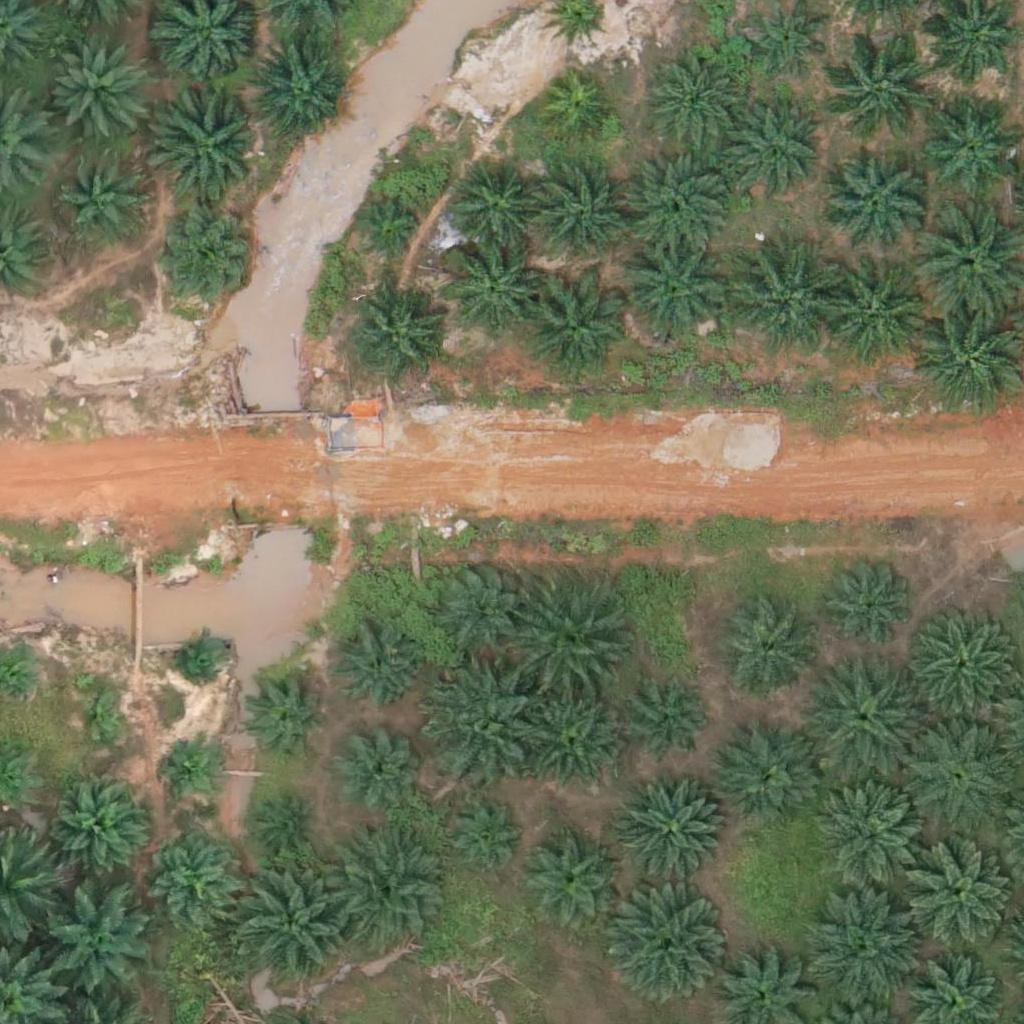Kelapa_Sawit: (607, 890, 720, 1004), (333, 839, 446, 953), (901, 840, 1014, 953), (901, 611, 1014, 724), (815, 781, 928, 894), (238, 862, 351, 975), (37, 886, 150, 999), (620, 146, 733, 259), (617, 234, 730, 347), (519, 273, 632, 386), (900, 717, 1012, 831), (827, 26, 939, 140), (725, 243, 837, 357), (813, 660, 925, 773), (810, 896, 922, 1009), (618, 776, 730, 889), (515, 589, 627, 702), (425, 668, 537, 781), (815, 262, 927, 375), (152, 86, 264, 199), (819, 554, 919, 655), (714, 727, 814, 828), (521, 687, 621, 788), (427, 554, 527, 655), (822, 151, 922, 252), (722, 102, 822, 203), (530, 168, 630, 269), (445, 159, 545, 260), (247, 40, 347, 141), (347, 285, 447, 386), (155, 213, 255, 314), (43, 40, 143, 141), (718, 604, 818, 704), (522, 829, 622, 929), (53, 778, 153, 878), (920, 93, 1020, 193), (645, 50, 745, 150), (440, 239, 540, 339), (333, 625, 420, 714), (627, 678, 714, 766), (440, 795, 527, 883), (333, 724, 420, 812), (149, 828, 236, 916), (243, 672, 330, 760), (61, 158, 148, 246), (538, 73, 613, 148), (353, 197, 428, 272), (165, 741, 215, 792), (172, 631, 222, 681), (263, 800, 313, 850), (75, 694, 125, 744)
